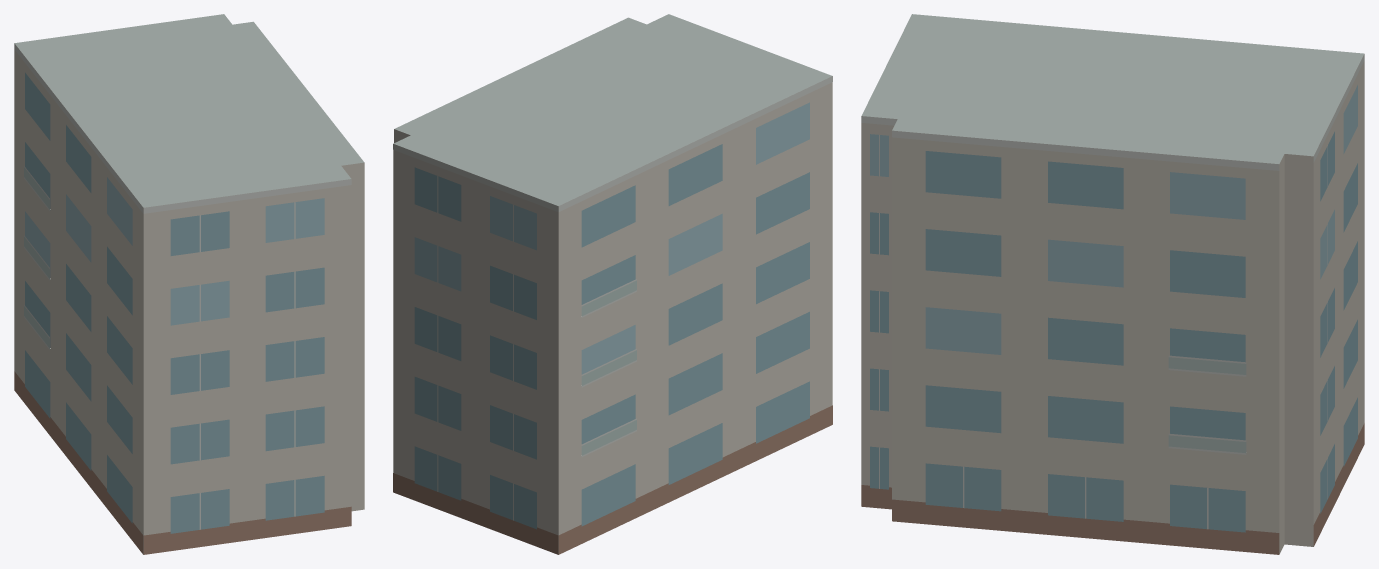
Rendered from survey-upis-32898685.glb.
3 renders of one model, left to right at view 1: azimuth 30°, elevation 25°; view 2: azimuth 150°, elevation 25°; view 3: azimuth 270°, elevation 25°, orthographic. The views are drawn at different scales.
Visible parts, largest first — view 1: survey-upis-32898685.tmp; view 2: survey-upis-32898685.tmp; view 3: survey-upis-32898685.tmp.
Boxes of the visible parts, left/top/right/bottom form: survey-upis-32898685.tmp: left=14, top=14, right=364, bottom=554; survey-upis-32898685.tmp: left=393, top=14, right=832, bottom=554; survey-upis-32898685.tmp: left=861, top=14, right=1364, bottom=554.
Size of the model in its own units: 11.55 by 14 by 16.35.
